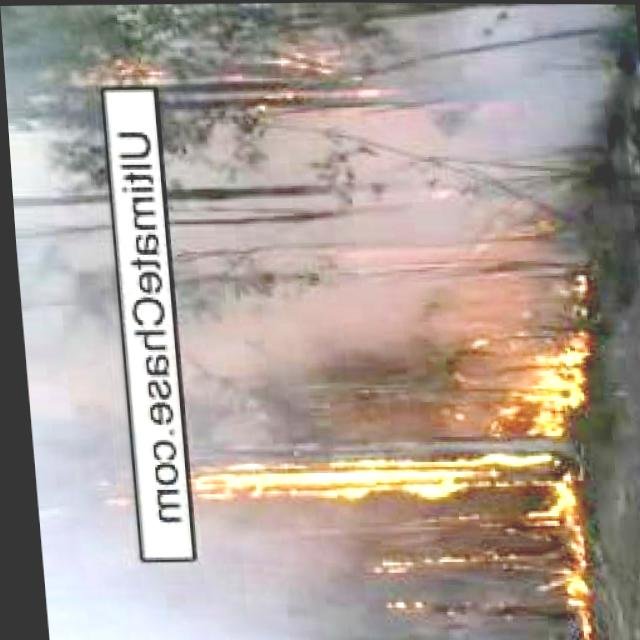Fire: (177, 452, 572, 514), (455, 292, 589, 439), (520, 508, 587, 636), (247, 32, 374, 99), (70, 30, 184, 86), (362, 550, 486, 580)
Smoke: (151, 1, 499, 640), (0, 4, 132, 640)
